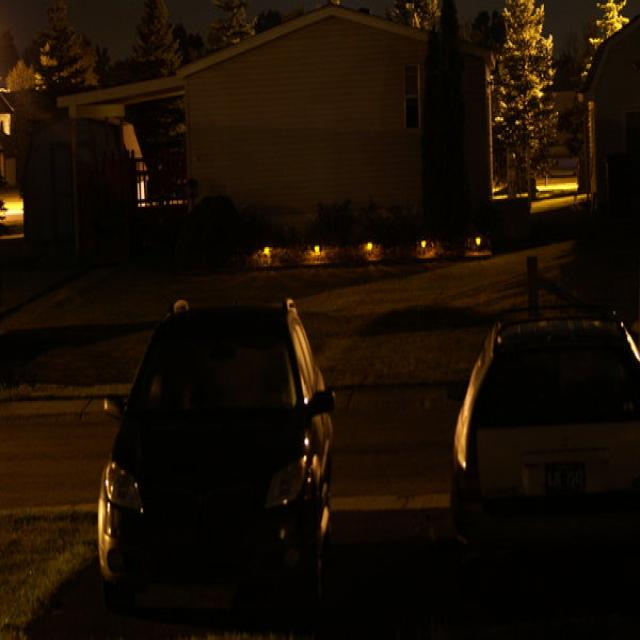car: (83, 288, 334, 603), (431, 270, 640, 603), (0, 64, 175, 316)
